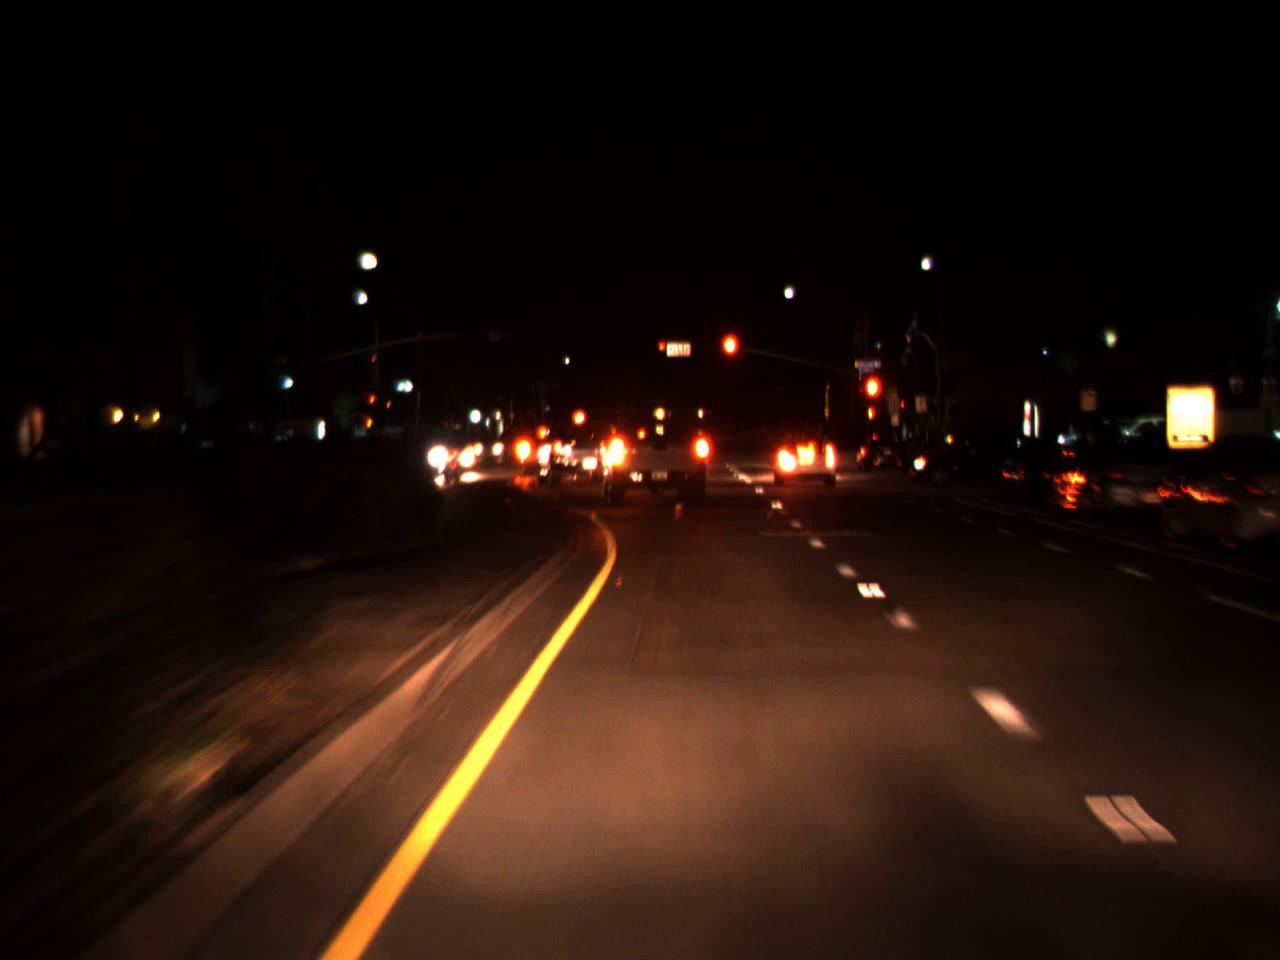stop: (718, 328, 742, 384), (861, 371, 885, 427), (658, 340, 665, 361), (369, 394, 375, 410)
